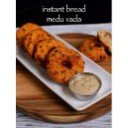vada: (47, 47, 85, 84), (36, 39, 67, 67), (26, 29, 53, 57), (17, 23, 42, 44)
